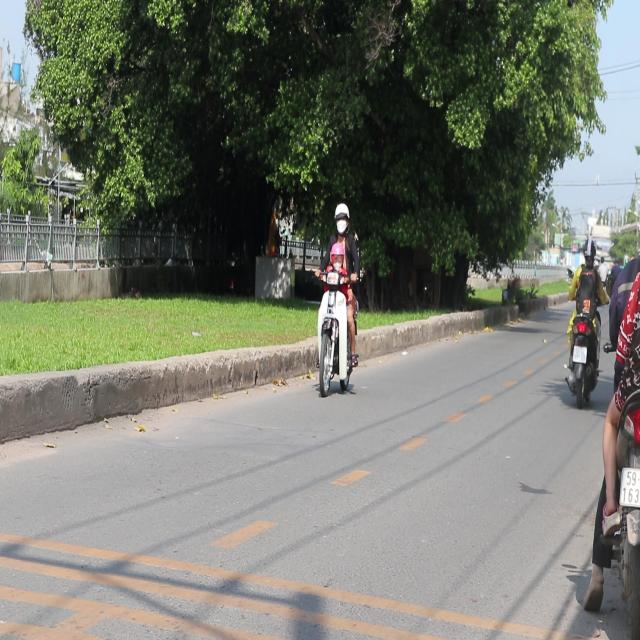helmet: (328, 240, 346, 276), (333, 202, 349, 238)
licenseplate: (582, 180, 639, 629), (312, 201, 362, 396)
nohelmet: (620, 466, 639, 502)
